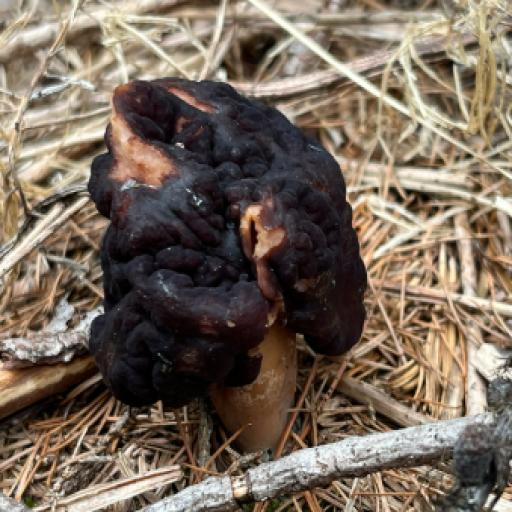mushroom: (69, 72, 381, 411)
